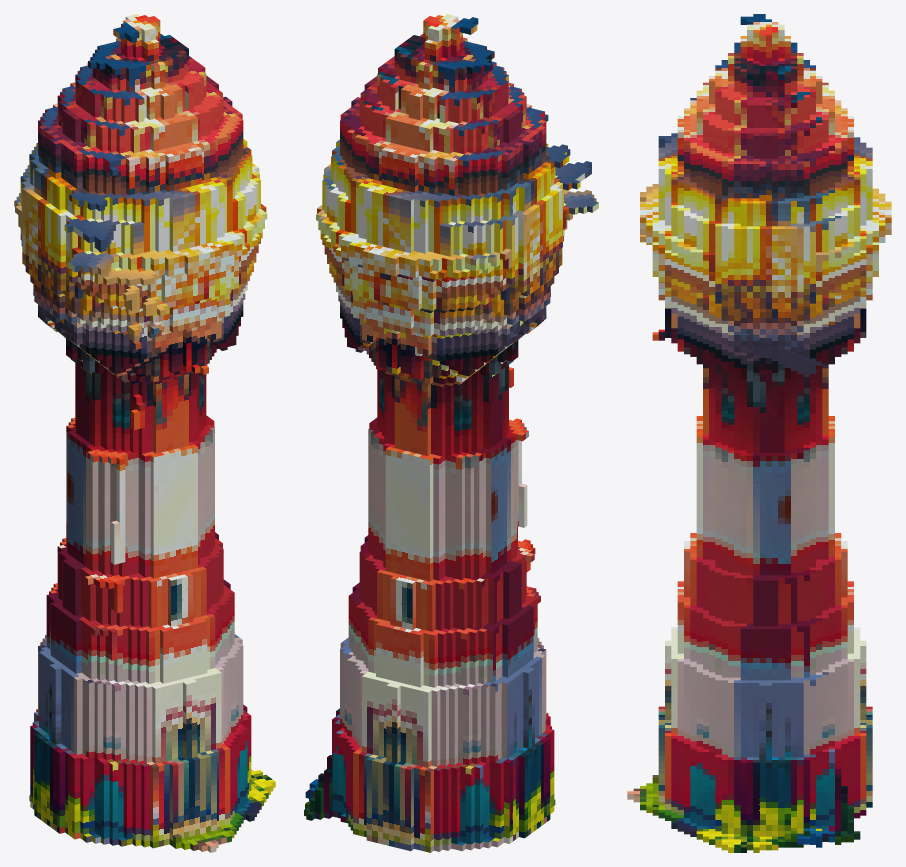
File: lighthouse.glb
3 renders of one model, left to right at view 1: azimuth 30°, elevation 25°; view 2: azimuth 150°, elevation 25°; view 3: azimuth 270°, elevation 25°, orthographic.
Visible parts, largest first — view 1: lighthouse; view 2: lighthouse; view 3: lighthouse.
Boxes of the visible parts, box(x1,y1,x2,y2) form: lighthouse: box(14, 14, 275, 852); lighthouse: box(304, 14, 598, 852); lighthouse: box(627, 14, 891, 852).
Size of the model in its own units: 1.06 by 3.51 by 1.09.
1 material, 1 textured.
